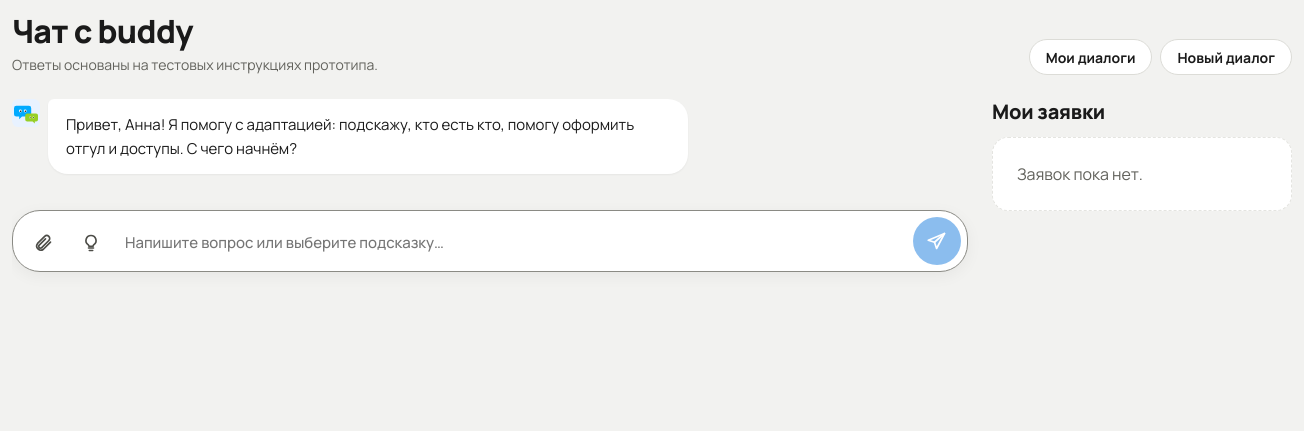
Test: S3 day off flow › welcome bubble only for an empty conversation; exactly one text field
The width and height of the screenshot is (1304, 431).
Expected: the text "Привет, Анна! Я помогу с адаптацией" is shown, 48,99 -> 688,174
Type "привет" into the dropdown named "Сообщение" at [513, 243], box 117,222 -> 909,265
Then press Enter
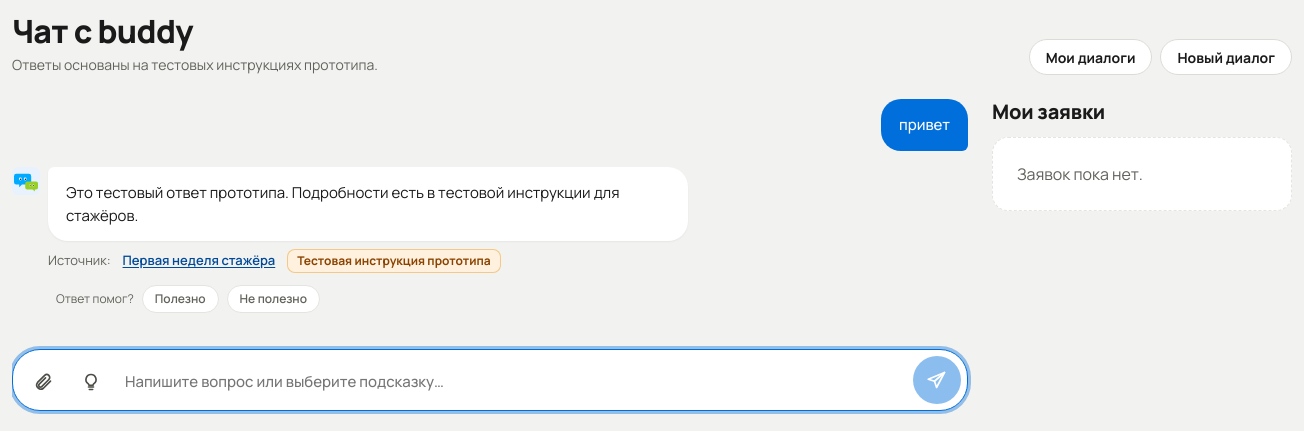
Expected: the text "тестовый ответ прототипа" is shown, 66,182 -> 620,226
Expected: the text "Привет, Анна" is gone
